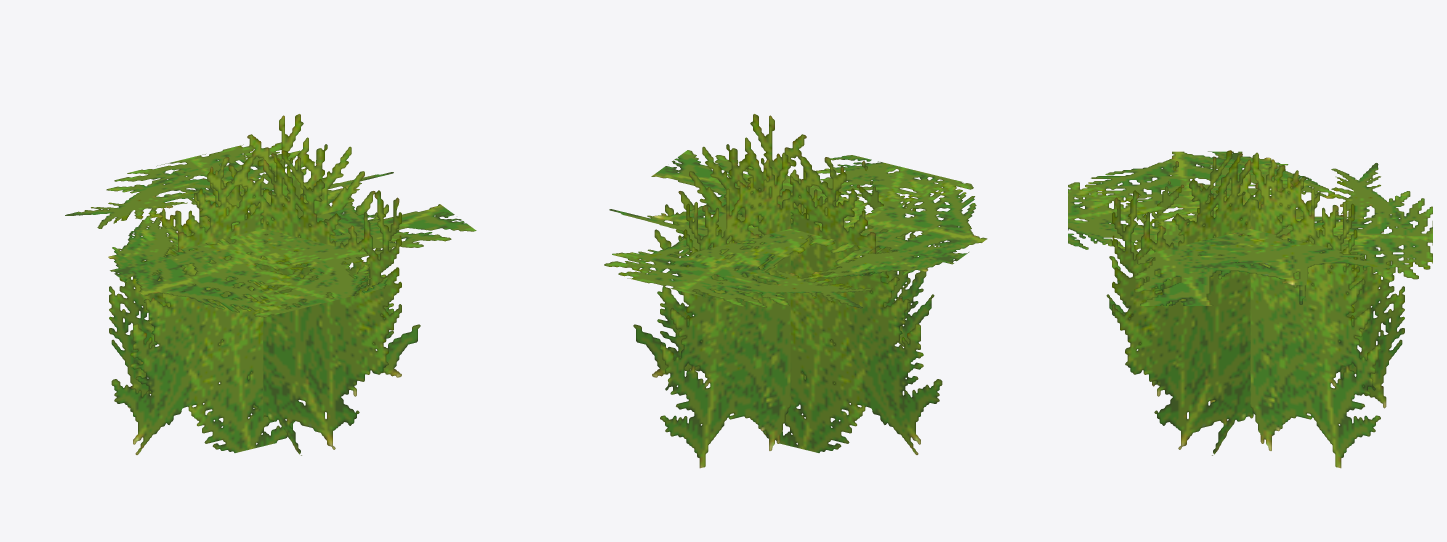
Rendered from bush_02_far.glb.
3 renders of one model, left to right at view 1: azimuth 30°, elevation 25°; view 2: azimuth 150°, elevation 25°; view 3: azimuth 270°, elevation 25°, orthographic.
Visible parts, largest first — view 1: env; view 2: env; view 3: env.
Boxes of the visible parts, bbox=[...] form: env: bbox=[65, 114, 476, 455]; env: bbox=[604, 114, 987, 468]; env: bbox=[1068, 150, 1432, 468].
Size of the model in its own units: 1.15 by 1.15 by 1.09.
Materials: 1 (1 with a texture image).
